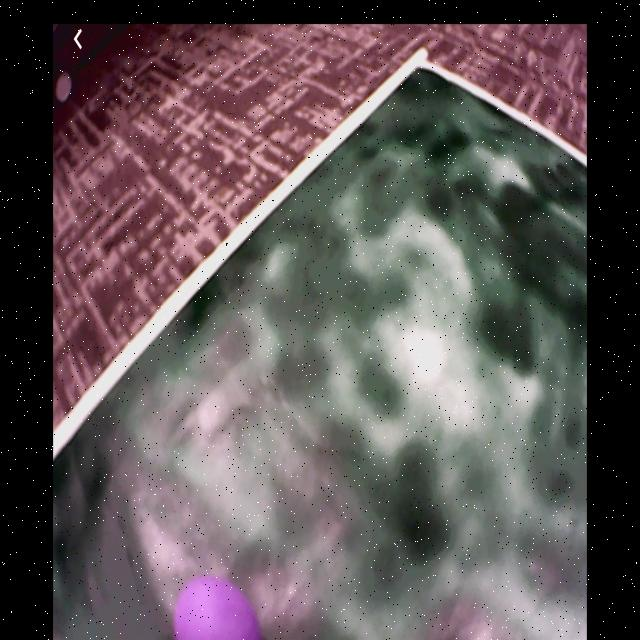ball: (174, 580, 262, 640)
